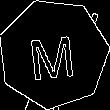M_N: (28, 26, 79, 81)
